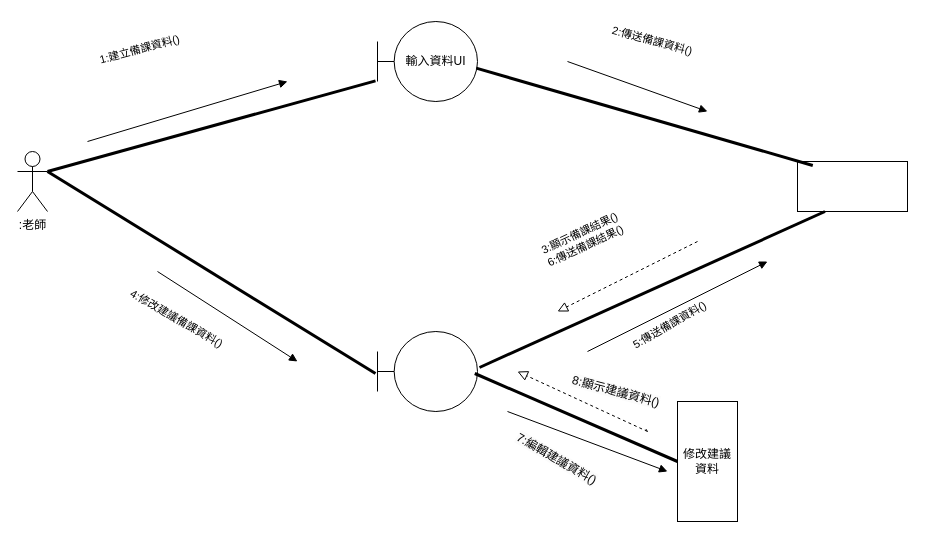
Some shapes in this 925 by 540 pixel diagram are drawn without their labels. Here are the shapes that lost their labels. From the top down, the centre of each, then its label:
At (x=852, y=186): "Application Core".
At (x=427, y=371): "確認結果UI".
